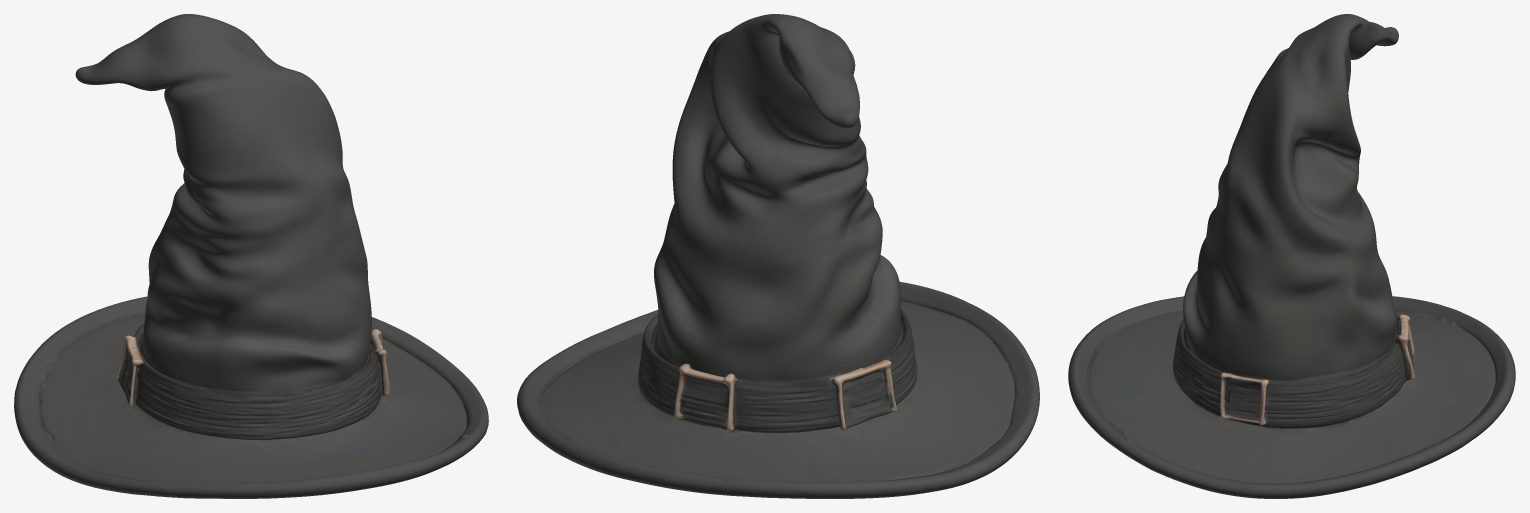
Rendered from detailed_realistic_model_sortinghat_16.glb.
3 renders of one model, left to right at view 1: azimuth 30°, elevation 25°; view 2: azimuth 150°, elevation 25°; view 3: azimuth 270°, elevation 25°, orthographic. The views are drawn at different scales.
Visible parts, largest first — view 1: tripo_node_71009c13-0a52-422a-8fe5-7de2e7218894; view 2: tripo_node_71009c13-0a52-422a-8fe5-7de2e7218894; view 3: tripo_node_71009c13-0a52-422a-8fe5-7de2e7218894.
Part boxes in pixels (bbox=[...]): tripo_node_71009c13-0a52-422a-8fe5-7de2e7218894: bbox=[14, 14, 488, 498]; tripo_node_71009c13-0a52-422a-8fe5-7de2e7218894: bbox=[517, 14, 1039, 498]; tripo_node_71009c13-0a52-422a-8fe5-7de2e7218894: bbox=[1068, 14, 1515, 498].
Size of the model in its own units: 0.9943 by 0.9267 by 1.
Materials: 1 (1 with a texture image).
